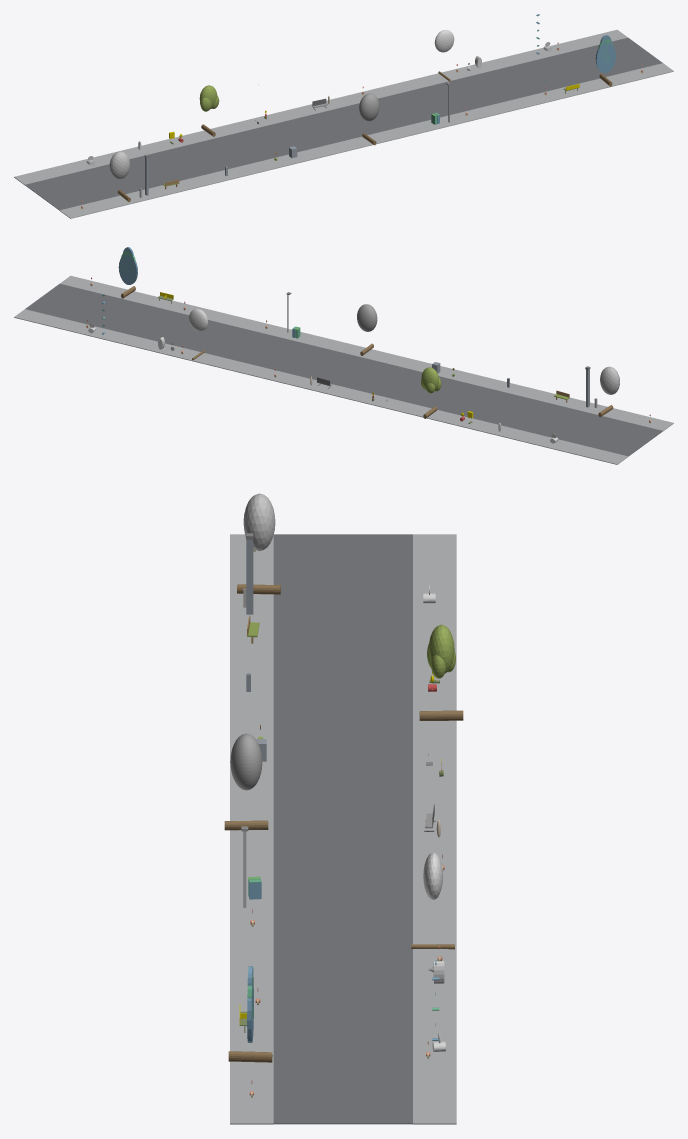
3 views of the same model, one above another, from view 1: azimuth 30°, elevation 25°; view 2: azimuth 150°, elevation 25°; view 3: azimuth 270°, elevation 25° (orthographic). The views are drawn at different scales.
Parts seen in each view (by area): view 1: road_slab, sidewalk_left, sidewalk_right, inst_0016, inst_0012, inst_0014, inst_0013, inst_0015; view 2: road_slab, sidewalk_right, sidewalk_left, inst_0016, inst_0012, inst_0014, inst_0013, inst_0015; view 3: road_slab, sidewalk_right, sidewalk_left, inst_0014, inst_0012, inst_0013, inst_0016, inst_0015.
Part boxes in pixels (box(x1,y1,x2,y2)): road_slab: box(25, 37, 662, 210); sidewalk_left: box(59, 63, 673, 218); sidewalk_right: box(14, 29, 627, 185); inst_0016: box(595, 35, 615, 86); inst_0012: box(109, 151, 130, 201); inst_0014: box(359, 93, 379, 145); inst_0013: box(199, 85, 219, 136); inst_0015: box(434, 30, 454, 81); road_slab: box(25, 283, 662, 456); sidewalk_right: box(14, 309, 628, 464); sidewalk_left: box(60, 275, 673, 431); inst_0016: box(118, 247, 137, 298); inst_0012: box(598, 366, 619, 416); inst_0014: box(357, 304, 377, 355); inst_0013: box(421, 367, 441, 418); inst_0015: box(189, 308, 207, 360); road_slab: box(273, 534, 412, 1124); sidewalk_right: box(413, 534, 456, 1124); sidewalk_left: box(230, 534, 273, 1124); inst_0014: box(224, 733, 268, 830); inst_0012: box(237, 493, 280, 594); inst_0013: box(419, 624, 463, 720); inst_0016: box(228, 966, 272, 1062); inst_0015: box(411, 852, 454, 949).
Bounding box in the file's own units: 80 × 6.08 × 13.71.
